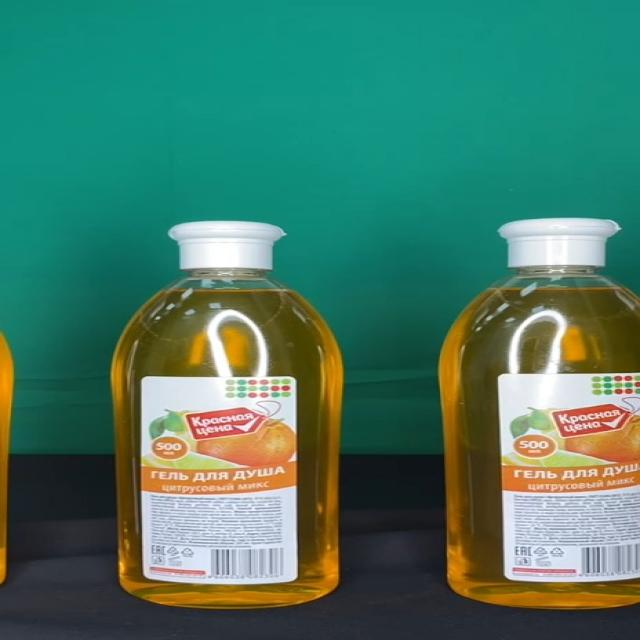Bottle: (109, 222, 345, 609), (439, 219, 640, 611)
Cap: (497, 220, 621, 268), (168, 222, 289, 270)
